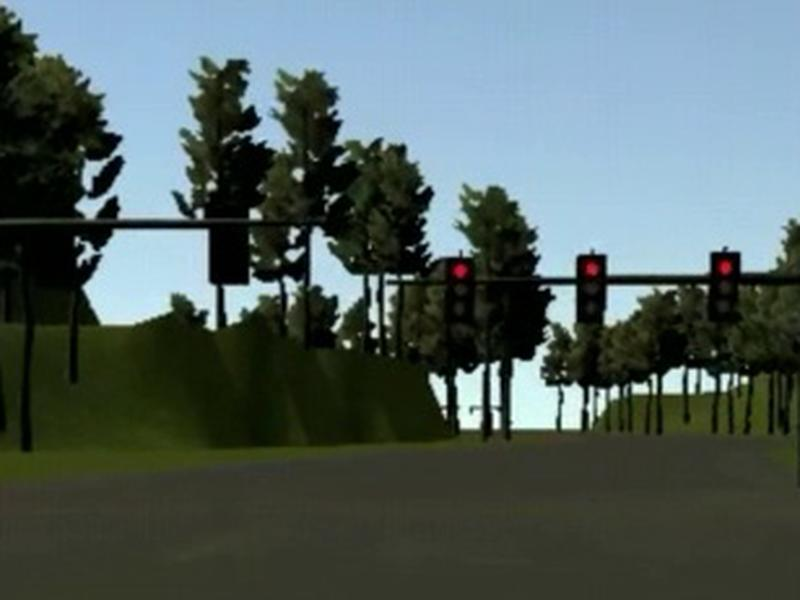Red: (709, 250, 740, 324), (575, 253, 606, 324), (444, 258, 473, 322)
